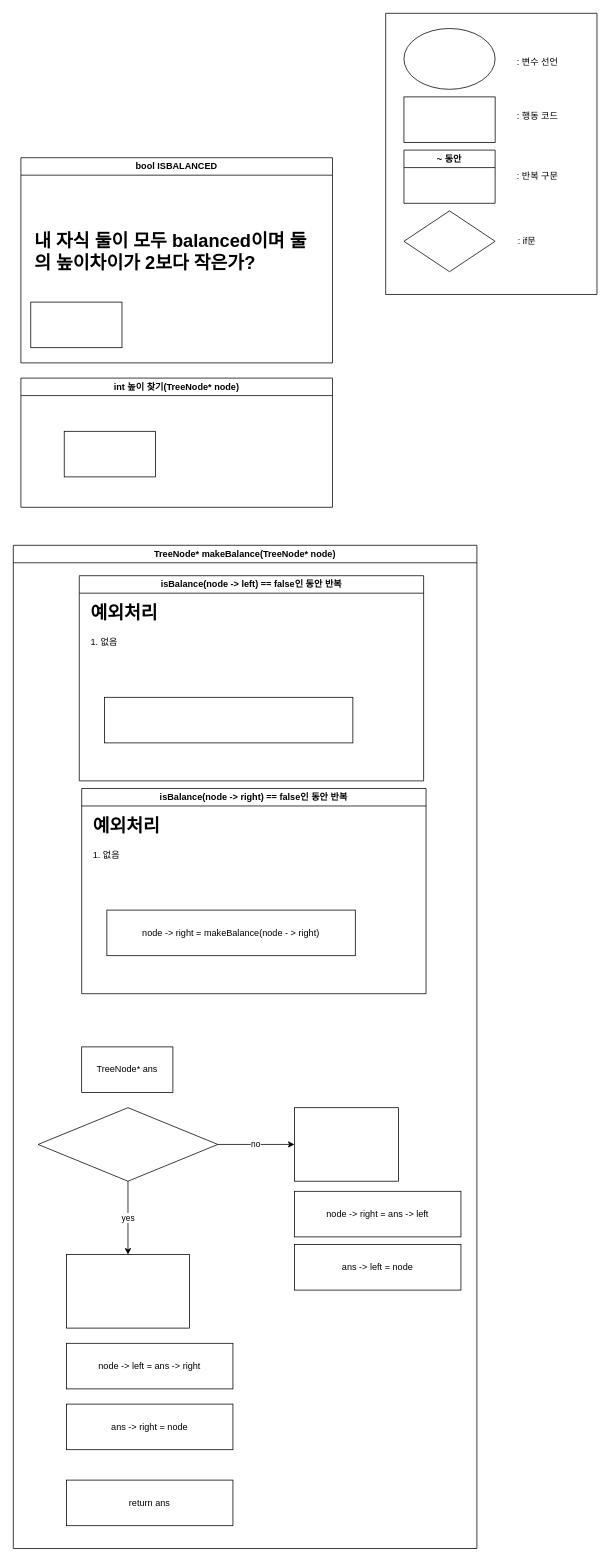
Some shapes in this 610 by 1562 pixel diagram are drawn without their labels. The centre of each missing label's shape, as x and y in pixels:
"ans = node -> left" goes at (x=127, y=1291).
"ans = node -> right" goes at (x=346, y=1144).
"node -> left = makeBalance(node -> left)" goes at (x=228, y=720).
"return" goes at (x=76, y=324).
"return max() + 1" goes at (x=109, y=454).
"왼쪽 자식이 더 큰가?" goes at (x=127, y=1144).
